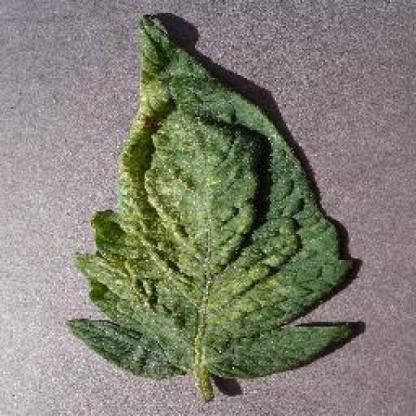Tomato_Spider_Mites: (72, 15, 352, 376)
